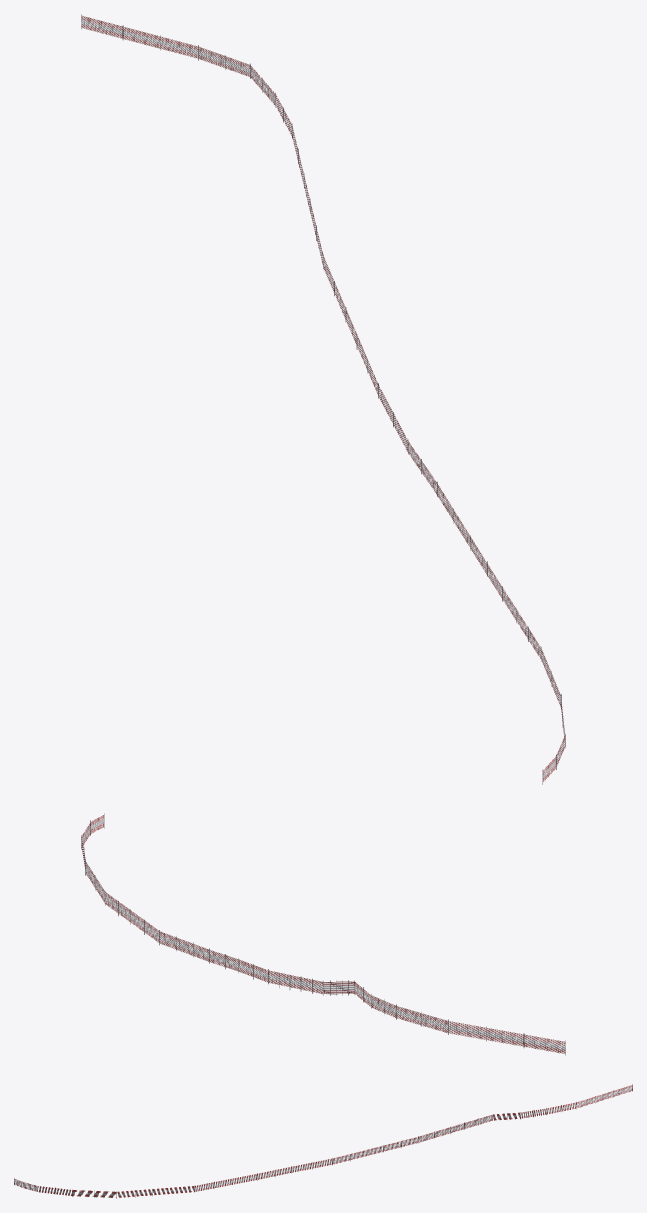
The model's file is mtb2_barrier1.obj.
The picture shows the model from 3 angles, top to bottom: view 1: azimuth 30°, elevation 25°; view 2: azimuth 210°, elevation 25°; view 3: azimuth 270°, elevation 25°; orthographic projection. The views are drawn at different scales.
Parts seen in each view (by area): view 1: mtb2_barrier1; view 2: mtb2_barrier1; view 3: mtb2_barrier1.
Boxes of the visible parts, x1,y1,x2,y2 form: mtb2_barrier1: [81, 14, 565, 784]; mtb2_barrier1: [81, 813, 565, 1055]; mtb2_barrier1: [14, 1084, 632, 1198].
Bounding box in the file's own units: 18.36 × 20.35 × 81.71.
3 materials, 3 textured.
